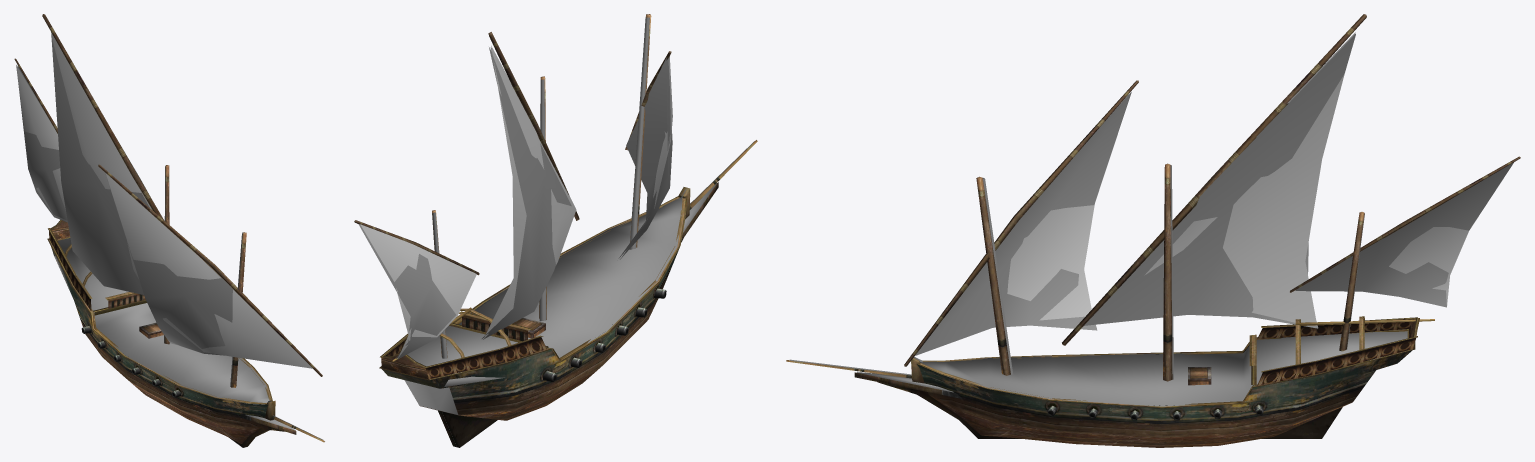
File: F_Monster_022_m.fbx
3 renders of one model, left to right at view 1: azimuth 30°, elevation 25°; view 2: azimuth 150°, elevation 25°; view 3: azimuth 270°, elevation 25°, orthographic. The views are drawn at different scales.
Visible parts, largest first — view 1: F_Ship_FakeShadow, F_Ship_Sail, F_Ship; view 2: F_Ship_FakeShadow, F_Ship, F_Ship_Sail; view 3: F_Ship_FakeShadow, F_Ship, F_Ship_Sail.
Part boxes in pixels (x1,y1,x2,y2): F_Ship_FakeShadow: (17,32,322,439); F_Ship_Sail: (16,33,312,368); F_Ship: (14,14,324,447); F_Ship_FakeShadow: (358,17,754,443); F_Ship: (354,14,757,447); F_Ship_Sail: (360,45,672,359); F_Ship_FakeShadow: (789,34,1513,406); F_Ship: (786,14,1520,447); F_Ship_Sail: (1007,32,1468,322).
Size of the model in its own units: 0.2781 by 0.6698 by 1.12.
